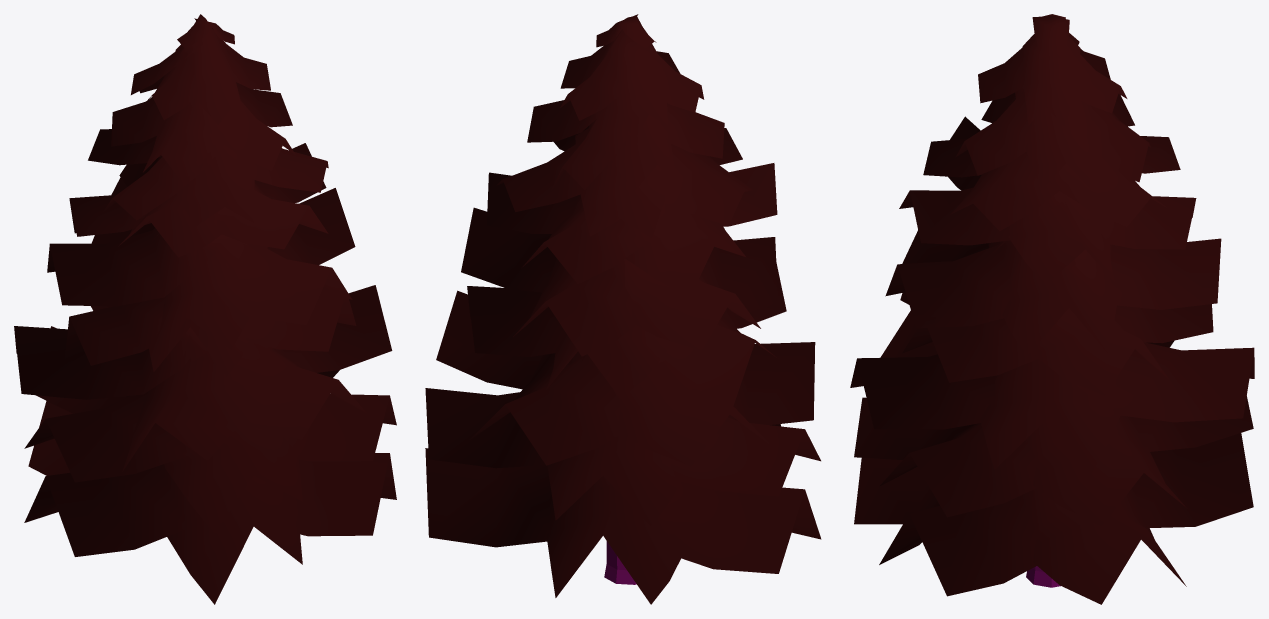
The model's file is pine-2.glb.
3 renders of one model, left to right at view 1: azimuth 30°, elevation 25°; view 2: azimuth 150°, elevation 25°; view 3: azimuth 270°, elevation 25°, orthographic. The views are drawn at different scales.
Visible parts, largest first — view 1: SM_Tree_Pine_02; view 2: SM_Tree_Pine_02; view 3: SM_Tree_Pine_02.
Part boxes in pixels (left/top/right/bottom): SM_Tree_Pine_02: left=14, top=14, right=396, bottom=604; SM_Tree_Pine_02: left=425, top=14, right=821, bottom=604; SM_Tree_Pine_02: left=850, top=14, right=1254, bottom=604.
Bounding box in the file's own units: 2.99 × 4.59 × 3.
Materials: 2 (1 with a texture image).
